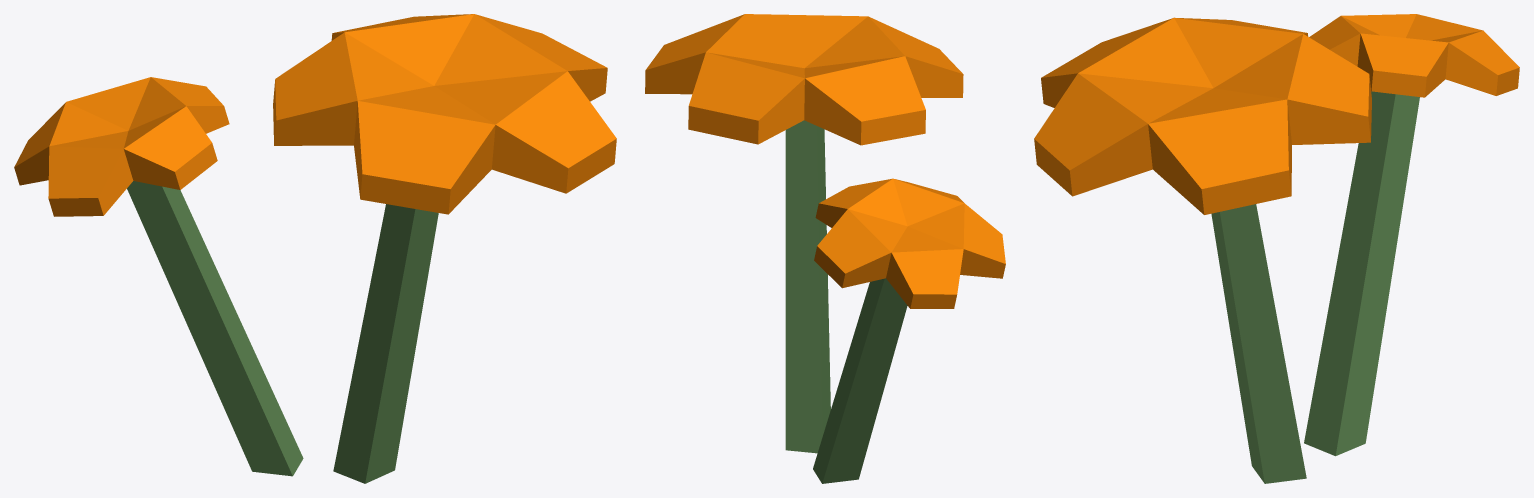
The model's file is flower_5.fbx.
3 views of the same model, side by side, from view 1: azimuth 30°, elevation 25°; view 2: azimuth 150°, elevation 25°; view 3: azimuth 270°, elevation 25° (orthographic). The views are drawn at different scales.
Parts seen in each view (by area): view 1: flower_005; view 2: flower_005; view 3: flower_005.
Part boxes in pixels (left/top/right/bottom): flower_005: left=14, top=14, right=616, bottom=483; flower_005: left=645, top=14, right=1005, bottom=483; flower_005: left=1034, top=14, right=1519, bottom=483.
Size of the model in its own units: 0.0911 by 0.0789 by 0.0799.
Materials: 1 (1 with a texture image).
